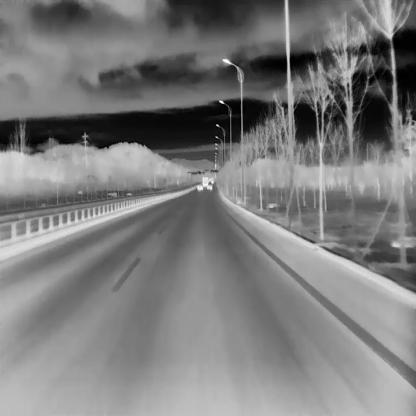car: (197, 184, 202, 189), (207, 184, 212, 188)
truck: (202, 176, 207, 186)
